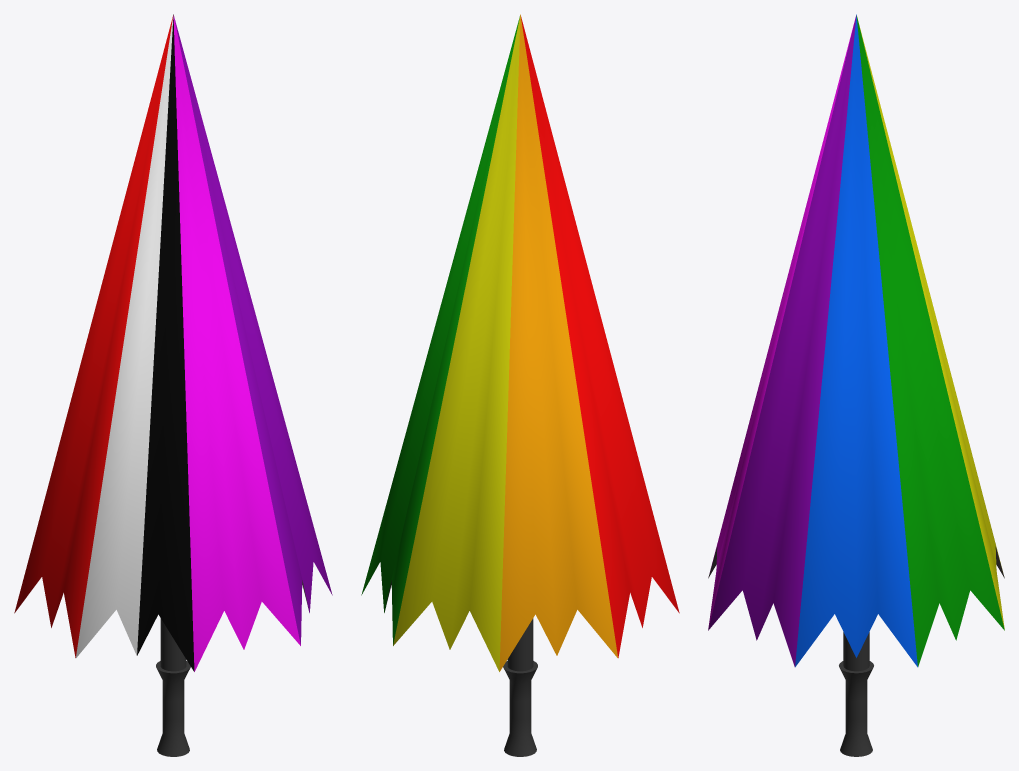
The model's file is Umbrella.fbx.
3 views of the same model, side by side, from view 1: azimuth 30°, elevation 25°; view 2: azimuth 150°, elevation 25°; view 3: azimuth 270°, elevation 25° (orthographic).
Parts seen in each view (by area): view 1: polySurface2; view 2: polySurface2; view 3: polySurface2.
Boxes of the visible parts, x1,y1,x2,y2 form: polySurface2: [14, 14, 332, 756]; polySurface2: [361, 14, 679, 756]; polySurface2: [708, 14, 1004, 756].
Size of the model in its own units: 1.94 by 5.32 by 1.94.
